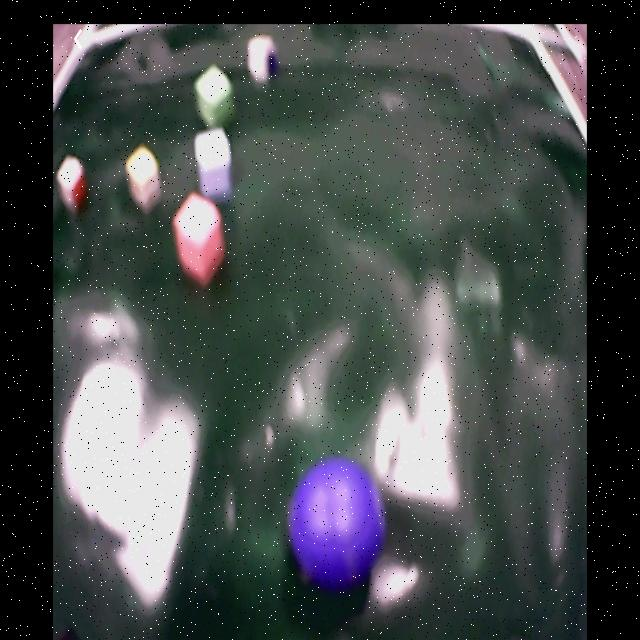ball: (290, 459, 383, 584)
